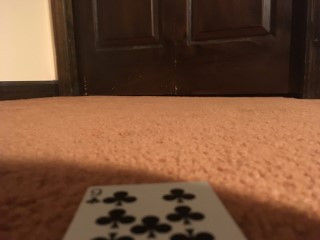NineOfClubs: (60, 182, 245, 240)
